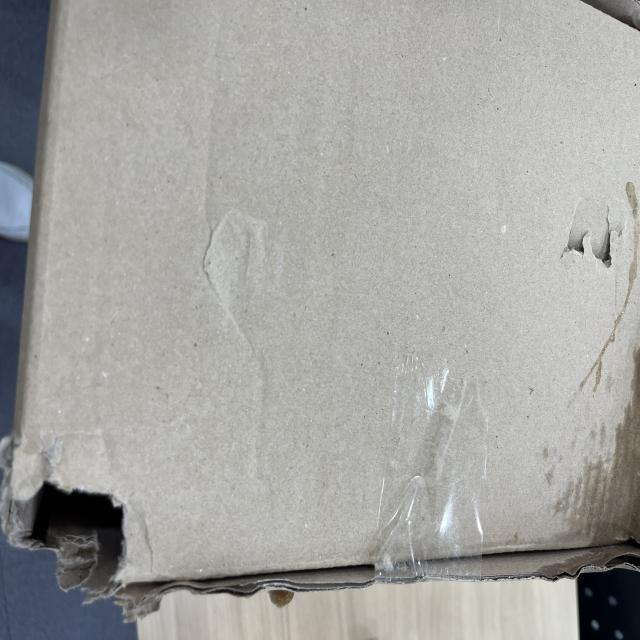hole: (7, 470, 140, 596), (546, 191, 636, 283)
wet: (548, 401, 637, 553)
